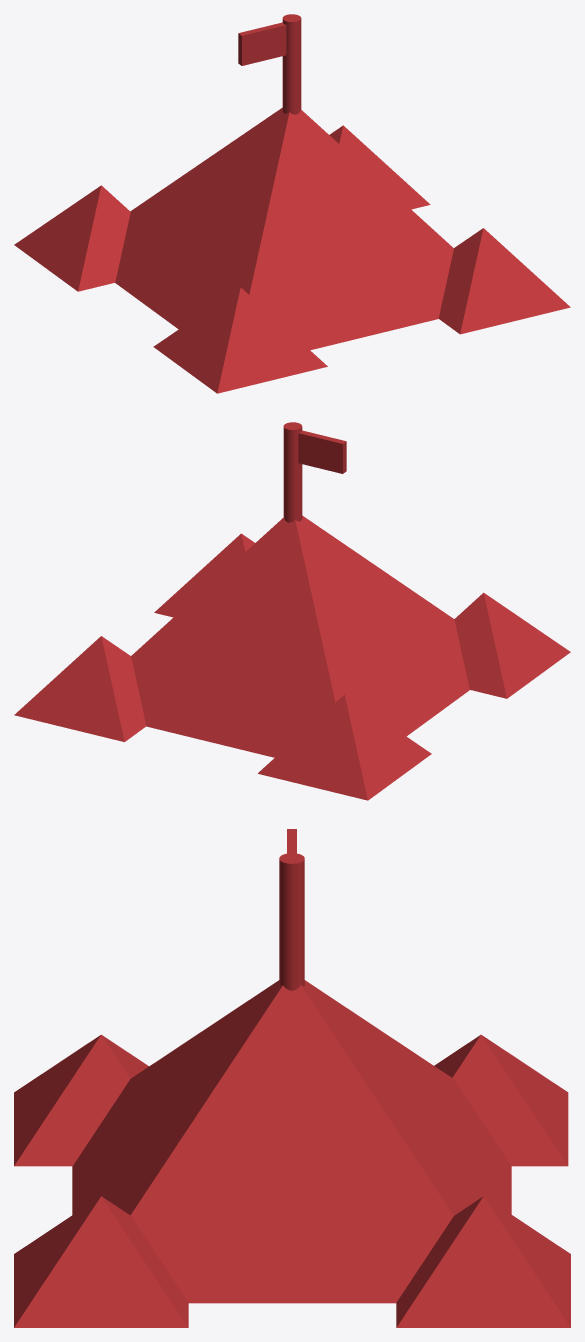
Rendered from EnemyBase.obj.
The picture shows the model from 3 angles, top to bottom: view 1: azimuth 30°, elevation 25°; view 2: azimuth 150°, elevation 25°; view 3: azimuth 270°, elevation 25°; orthographic projection. The views are drawn at different scales.
Parts seen in each view (by area): view 1: 立方体; view 2: 立方体; view 3: 立方体.
Part boxes in pixels (x1,y1,x2,y2): 立方体: [14, 14, 570, 393]; 立方体: [14, 422, 570, 800]; 立方体: [14, 829, 570, 1327].
Bounding box in the file's own units: 4.23 × 2.95 × 4.23.
1 material, 1 textured.
